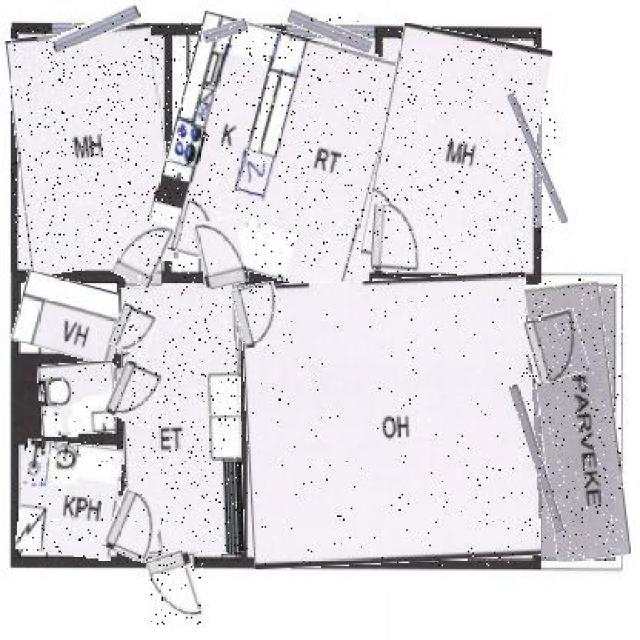door: (525, 310, 586, 382), (152, 550, 205, 624), (371, 203, 426, 272), (108, 492, 163, 560), (119, 216, 170, 286), (197, 218, 246, 288), (236, 283, 284, 346), (110, 362, 158, 424), (112, 306, 156, 354)
window: (521, 384, 554, 536), (520, 91, 555, 226), (50, 11, 142, 46), (286, 17, 374, 46), (203, 22, 248, 40)
zone: (243, 277, 537, 566), (157, 23, 389, 285), (371, 29, 543, 277), (12, 28, 172, 272), (121, 284, 242, 556), (532, 278, 623, 560), (18, 442, 120, 558), (15, 275, 124, 360), (38, 362, 117, 436)
